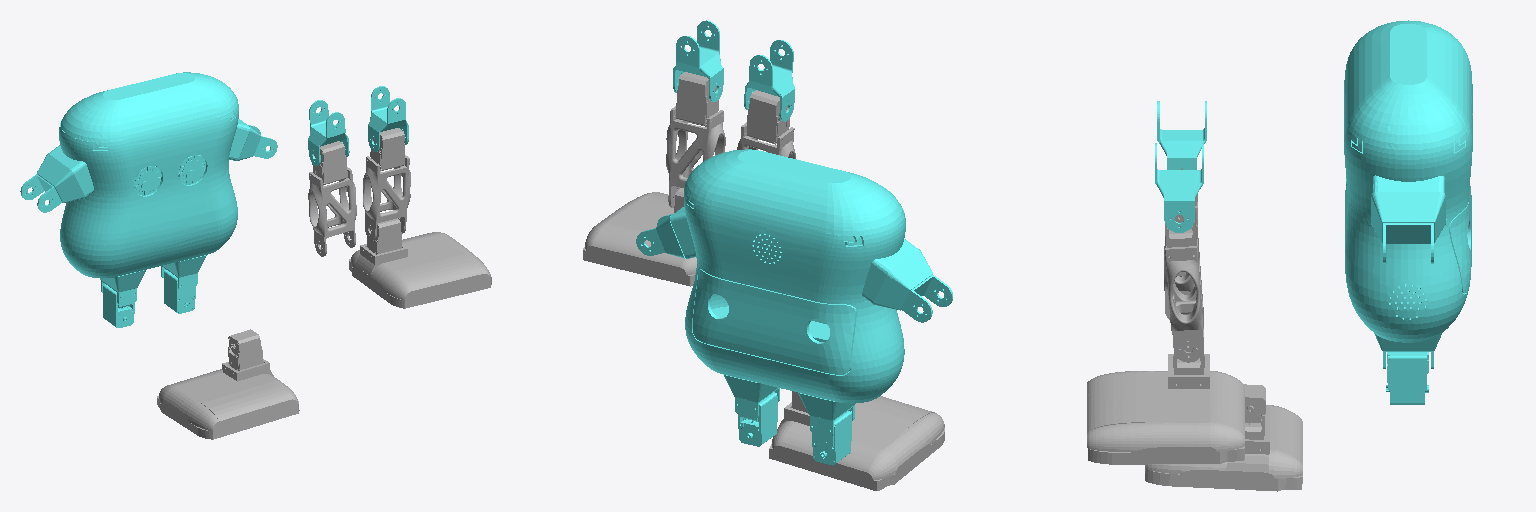
robot.urdf — Asem_URDF2_revolute:
<?xml version="1.0" encoding="utf-8"?>
<!-- This URDF was automatically created by SolidWorks to URDF Exporter! Originally created by [author] ([email redacted]) 
     Commit Version: 1.6.0-1-g15f4949  Build Version: 1.6.7594.29634
     For more information, please see http://wiki.ros.org/sw_urdf_exporter -->
<robot
  name="Asem_URDF2_revolute">
  <link
    name="base_link">
    <inertial>
      <origin
        xyz="0.176940940504844 -0.145506796173792 0.102195344833031"
        rpy="0 0 0" />
      <mass
        value="2.51232556100381" />
      <inertia
        ixx="0.00310363508347308"
        ixy="1.89487380597374E-05"
        ixz="-2.83717693262435E-05"
        iyy="0.00359466778308025"
        iyz="5.2506442121377E-05"
        izz="0.0051236149336858" />
    </inertial>
    <visual>
      <origin
        xyz="0 0 0"
        rpy="1.57 0 0" />
      <geometry>
        <mesh
          filename="base_link.STL" />
      </geometry>
      <material
        name="">
        <color
          rgba="0.470588235294118 1 1 1" />
      </material>
    </visual>
    <collision>
      <origin
        xyz="0 0 0"
        rpy="0 0 0" />
      <geometry>
        <mesh
          filename="base_link.STL" />
      </geometry>
    </collision>
  </link>
  <link
    name="left_hip">
    <inertial>
      <origin
        xyz="6.49127866736432E-08 0.0147488198448284 -1.38897146098604E-06"
        rpy="0 0 0" />
      <mass
        value="0.0182000419878892" />
      <inertia
        ixx="4.61904406212197E-06"
        ixy="3.99049700373051E-12"
        ixz="-1.20359375841529E-11"
        iyy="4.55422094522448E-06"
        iyz="-1.64972135781869E-10"
        izz="4.61891872101621E-06" />
    </inertial>
    <visual>
      <origin
        xyz="0 0 0"
        rpy="0 0 0" />
      <geometry>
        <mesh
          filename="left_hip.STL" />
      </geometry>
      <material
        name="">
        <color
          rgba="0.470588235294118 1 1 1" />
      </material>
    </visual>
    <collision>
      <origin
        xyz="0 0 0"
        rpy="0 0 0" />
      <geometry>
        <mesh
          filename="left_hip.STL" />
      </geometry>
    </collision>
  </link>
  <joint
    name="left_hipj"
    type="revolute">
    <origin
      xyz="0.2152 -0.1391 0.077032"
      rpy="1.5708 0 0" />
    <parent
      link="base_link" />
    <child
      link="left_hip" />
    <axis
      xyz="0 0 1" />
    <limit
      lower="0"
      upper="0"
      effort="0"
      velocity="0" />
  </joint>
  <link
    name="left_knee">
    <inertial>
      <origin
        xyz="0.0396392202364896 0.0482454033443099 0.0965474420476572"
        rpy="0 0 0" />
      <mass
        value="0.0689612295694067" />
      <inertia
        ixx="3.42775690179589E-05"
        ixy="-3.32883813960433E-07"
        ixz="5.76259510179578E-07"
        iyy="3.66875881854108E-05"
        iyz="1.07645451496406E-05"
        izz="2.42571770160966E-05" />
    </inertial>
    <visual>
      <origin
        xyz="0 0 0"
        rpy="0 0 0" />
      <geometry>
        <mesh
          filename="left_knee.STL" />
      </geometry>
      <material
        name="">
        <color
          rgba="0.752941176470588 0.752941176470588 0.752941176470588 1" />
      </material>
    </visual>
    <collision>
      <origin
        xyz="0 0 0"
        rpy="0 0 0" />
      <geometry>
        <mesh
          filename="left_knee.STL" />
      </geometry>
    </collision>
  </link>
  <joint
    name="left_kneej"
    type="revolute">
    <origin
      xyz="-0.03968 -0.11642 0.083195"
      rpy="-2.0279 0 0" />
    <parent
      link="left_hip" />
    <child
      link="left_knee" />
    <axis
      xyz="1 0 0" />
    <limit
      lower="0"
      upper="0"
      effort="0"
      velocity="0" />
  </joint>
  <link
    name="left_ankle">
    <inertial>
      <origin
        xyz="0.064296609347001 0.0687805563450678 0.09505595208941"
        rpy="0 0 0" />
      <mass
        value="0.508305315550368" />
      <inertia
        ixx="0.000639578408517215"
        ixy="6.35687523771488E-06"
        ixz="-3.89612935539665E-06"
        iyy="0.00124671749506692"
        iyz="2.76032825552062E-06"
        izz="0.000688373458609745" />
    </inertial>
    <visual>
      <origin
        xyz="0 0 0"
        rpy="0 0 0" />
      <geometry>
        <mesh
          filename="left_ankle.STL" />
      </geometry>
      <material
        name="">
        <color
          rgba="0.752941176470588 0.752941176470588 0.752941176470588 1" />
      </material>
    </visual>
    <collision>
      <origin
        xyz="0 0 0"
        rpy="0 0 0" />
      <geometry>
        <mesh
          filename="left_ankle.STL" />
      </geometry>
    </collision>
  </link>
  <joint
    name="left_anklej"
    type="revolute">
    <origin
      xyz="0.0087283 0.20813 -0.040609"
      rpy="2.0329 0 0" />
    <parent
      link="left_knee" />
    <child
      link="left_ankle" />
    <axis
      xyz="1 0 0" />
    <limit
      lower="0"
      upper="0"
      effort="0"
      velocity="0" />
  </joint>
  <link
    name="right_hip">
    <inertial>
      <origin
        xyz="6.2617527690767E-08 0.0147488203563726 -1.38900650609175E-06"
        rpy="0 0 0" />
      <mass
        value="0.0182000425195511" />
      <inertia
        ixx="4.61904407070278E-06"
        ixy="4.06415332010876E-12"
        ixz="-1.18399397405083E-11"
        iyy="4.5542216832972E-06"
        iyz="-1.65078832016391E-10"
        izz="4.61891927695759E-06" />
    </inertial>
    <visual>
      <origin
        xyz="0 0 0"
        rpy="0 0 0" />
      <geometry>
        <mesh
          filename="right_hip.STL" />
      </geometry>
      <material
        name="">
        <color
          rgba="0.470588235294118 1 1 1" />
      </material>
    </visual>
    <collision>
      <origin
        xyz="0 0 0"
        rpy="0 0 0" />
      <geometry>
        <mesh
          filename="right_hip.STL" />
      </geometry>
    </collision>
  </link>
  <joint
    name="right_hipj"
    type="revolute">
    <origin
      xyz="0.13548 -0.13685 0.077101"
      rpy="1.5708 -0.060013 0" />
    <parent
      link="base_link" />
    <child
      link="right_hip" />
    <axis
      xyz="0 0 1" />
    <limit
      lower="0"
      upper="0"
      effort="0"
      velocity="0" />
  </joint>
  <link
    name="right_knee">
    <inertial>
      <origin
        xyz="0.0396392356642763 0.0482454580381397 0.0965473275419001"
        rpy="0 0 0" />
      <mass
        value="0.068961373549845" />
      <inertia
        ixx="3.42776008989011E-05"
        ixy="-3.32865031269742E-07"
        ixz="5.76226690928441E-07"
        iyy="3.66875993226641E-05"
        iyz="1.07645719984772E-05"
        izz="2.42572077794417E-05" />
    </inertial>
    <visual>
      <origin
        xyz="0 0 0"
        rpy="0 0 0" />
      <geometry>
        <mesh
          filename="right_knee.STL" />
      </geometry>
      <material
        name="">
        <color
          rgba="0.752941176470588 0.752941176470588 0.752941176470588 1" />
      </material>
    </visual>
    <collision>
      <origin
        xyz="0 0 0"
        rpy="0 0 0" />
      <geometry>
        <mesh
          filename="right_knee.STL" />
      </geometry>
    </collision>
  </link>
  <joint
    name="right_kneej"
    type="revolute">
    <origin
      xyz="-0.03968 -0.10957 0.091399"
      rpy="-2.1064 0 0" />
    <parent
      link="right_hip" />
    <child
      link="right_knee" />
    <axis
      xyz="1 0 0" />
    <limit
      lower="0"
      upper="0"
      effort="0"
      velocity="0" />
  </joint>
  <link
    name="right_ankle">
    <inertial>
      <origin
        xyz="0.076735 0.074915 0.08225"
        rpy="0 0 0" />
      <mass
        value="0.5083" />
      <inertia
        ixx="0.00063958"
        ixy="-6.3657E-06"
        ixz="3.893E-06"
        iyy="0.0012467"
        iyz="2.7571E-06"
        izz="0.00068837" />
    </inertial>
    <visual>
      <origin
        xyz="0 0 0"
        rpy="0 0 0" />
      <geometry>
        <mesh
          filename="right_ankle.STL" />
      </geometry>
      <material
        name="">
        <color
          rgba="0.75294 0.75294 0.75294 1" />
      </material>
    </visual>
    <collision>
      <origin
        xyz="0 0 0"
        rpy="0 0 0" />
      <geometry>
        <mesh
          filename="right_ankle.STL" />
      </geometry>
    </collision>
  </link>
  <joint
    name="right_anklej"
    type="revolute">
    <origin
      xyz="-0.071327 0.20122 -0.049265"
      rpy="2.0551 0 0" />
    <parent
      link="right_knee" />
    <child
      link="right_ankle" />
    <axis
      xyz="1 0 0" />
    <limit
      lower="0"
      upper="0"
      effort="0"
      velocity="0" />
  </joint>
 
</robot>

--- What the picture shows (computed from the rendered views, not written in the file) ---
Views: 3 orthographic renders of the robot side by side, from view 1: azimuth 30°, elevation 25°; view 2: azimuth 150°, elevation 25°; view 3: azimuth 270°, elevation 25°.
Robot: Asem_URDF2_revolute — 7 links, 6 joints (6 revolute); root link base_link; default pose: every joint at zero.
Links seen in each view (by area): view 1: base_link, right_ankle, left_ankle, right_knee, left_knee, left_hip, right_hip; view 2: base_link, right_ankle, left_ankle, left_knee, right_knee, left_hip, right_hip; view 3: base_link, left_ankle, right_ankle, left_knee, left_hip, right_hip, right_knee.
Boxes of the visible links, <box> form: base_link: <box>20,72,277,327</box>; right_ankle: <box>157,329,299,439</box>; left_ankle: <box>349,218,491,308</box>; right_knee: <box>308,141,356,256</box>; left_knee: <box>363,128,410,240</box>; left_hip: <box>368,86,408,151</box>; right_hip: <box>308,100,349,166</box>; base_link: <box>636,149,952,465</box>; right_ankle: <box>769,391,944,490</box>; left_ankle: <box>583,188,696,286</box>; left_knee: <box>666,72,725,207</box>; right_knee: <box>737,90,795,158</box>; left_hip: <box>673,20,723,101</box>; right_hip: <box>744,40,794,121</box>; base_link: <box>1344,20,1472,404</box>; left_ankle: <box>1087,329,1244,464</box>; right_ankle: <box>1145,384,1302,491</box>; left_knee: <box>1165,211,1203,362</box>; left_hip: <box>1155,143,1203,232</box>; right_hip: <box>1157,101,1206,169</box>; right_knee: <box>1164,168,1197,319</box>.
Bounding box of the posed robot: 0.4804 × 0.3182 × 0.3854 m (x, y, z).
7 mesh visuals loaded from 7 distinct referenced files (7 binary STL).
